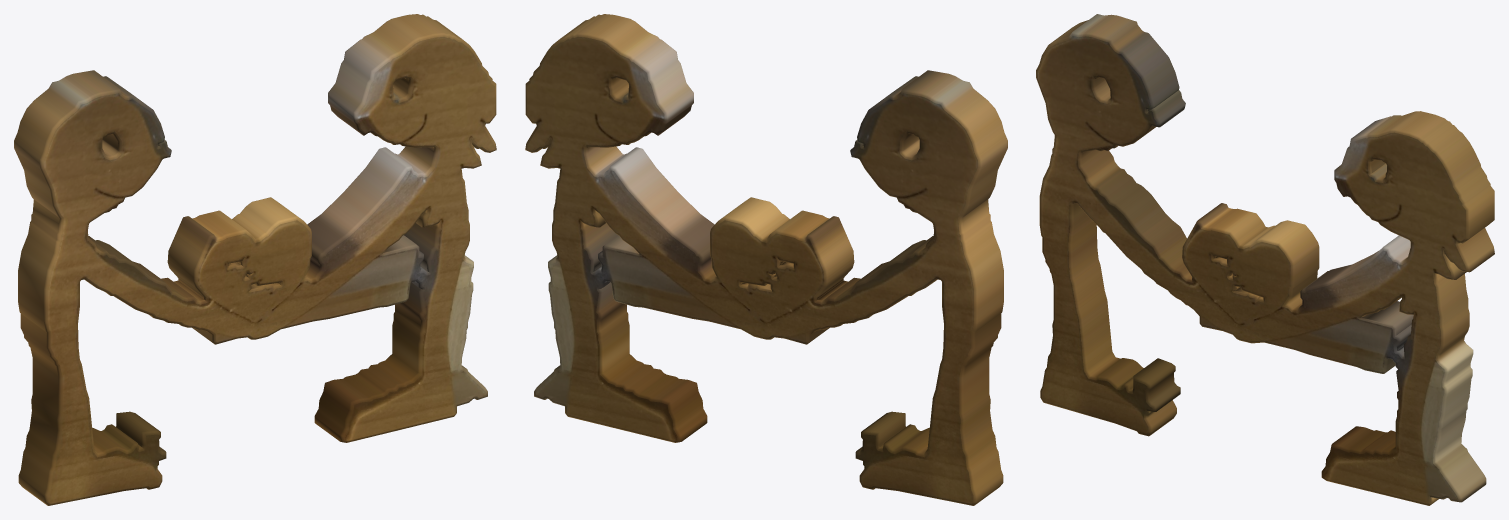
File: couple-heart.glb
The picture shows the model from 3 angles, left to right: view 1: azimuth 30°, elevation 25°; view 2: azimuth 150°, elevation 25°; view 3: azimuth 330°, elevation 25°; orthographic projection. The views are drawn at different scales.
Visible parts, largest first — view 1: Couple with heart; view 2: Couple with heart; view 3: Couple with heart.
Boxes of the visible parts, box(x1,y1,x2,y2) form: Couple with heart: box(14, 14, 496, 505); Couple with heart: box(525, 14, 1007, 505); Couple with heart: box(1036, 14, 1494, 505).
Size of the model in its own units: 0.1989 by 0.1708 by 0.0214.
Materials: 1 (1 with a texture image).
